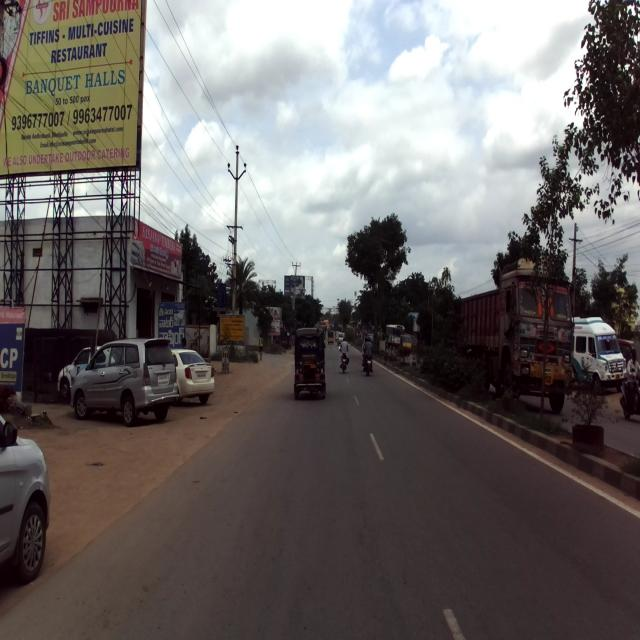Car_Toyota: (69, 336, 180, 428)
truck: (452, 260, 574, 416)
